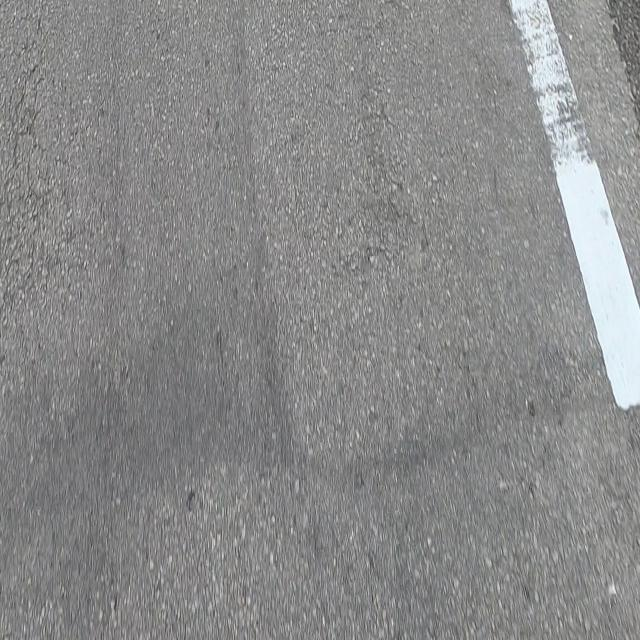Retak-Buaya: (0, 17, 63, 301)
